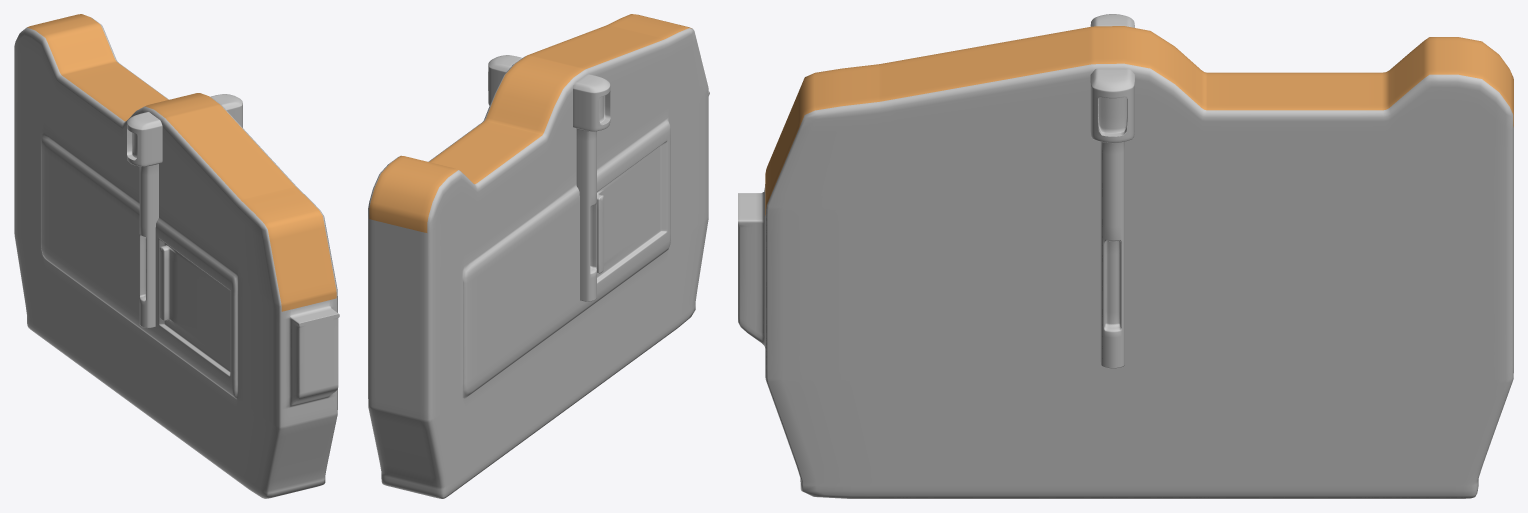
The model's file is GatemachineS1.fbx.
3 views of the same model, side by side, from view 1: azimuth 30°, elevation 25°; view 2: azimuth 150°, elevation 25°; view 3: azimuth 270°, elevation 25° (orthographic). The views are drawn at different scales.
Parts seen in each view (by area): view 1: GatemachineShou; view 2: GatemachineShou; view 3: GatemachineShou.
Part boxes in pixels (x1,y1,x2,y2): GatemachineShou: (14,14,339,498); GatemachineShou: (368,14,709,498); GatemachineShou: (738,14,1513,498).
Bounding box in the file's own units: 57.95 × 155 × 249.
